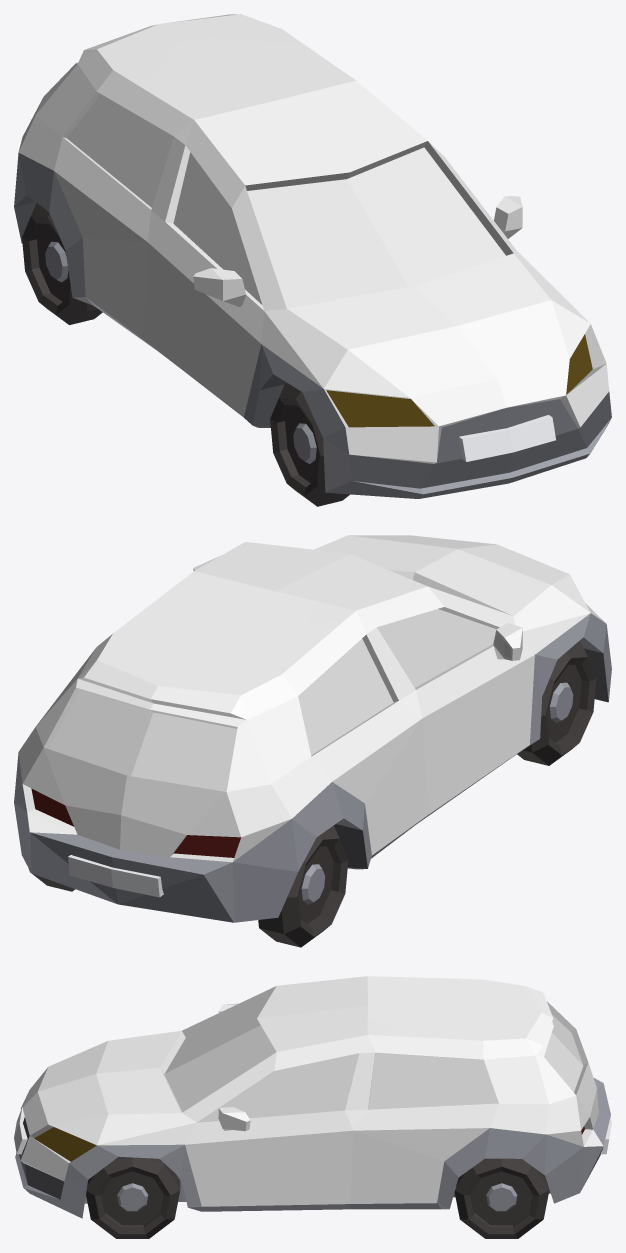
File: Hatchback_03.fbx
The picture shows the model from 3 angles, top to bottom: view 1: azimuth 30°, elevation 25°; view 2: azimuth 150°, elevation 25°; view 3: azimuth 270°, elevation 25°; orthographic projection. The views are drawn at different scales.
Visible parts, largest first — view 1: Body, Windows, Body_Details, Wheels, Lights; view 2: Body, Body_Details, Windows, Wheels, Lights; view 3: Body, Windows, Body_Details, Wheels, Lights.
Part boxes in pixels (box(x1,y1,x2,y2)): Body: box(18, 14, 609, 463); Windows: box(67, 94, 505, 308); Body_Details: box(14, 152, 611, 498); Wheels: box(22, 203, 349, 506); Lights: box(326, 334, 592, 427); Body: box(18, 535, 605, 862); Body_Details: box(14, 613, 611, 922); Windows: box(48, 609, 510, 791); Wheels: box(28, 641, 596, 947); Lights: box(31, 788, 240, 857); Body: box(20, 976, 603, 1206); Windows: box(164, 998, 583, 1122); Body_Details: box(14, 1078, 611, 1218); Wheels: box(86, 1156, 549, 1238); Lights: box(34, 1126, 584, 1161).
Size of the model in its own units: 2.14 by 1.57 by 4.55.
